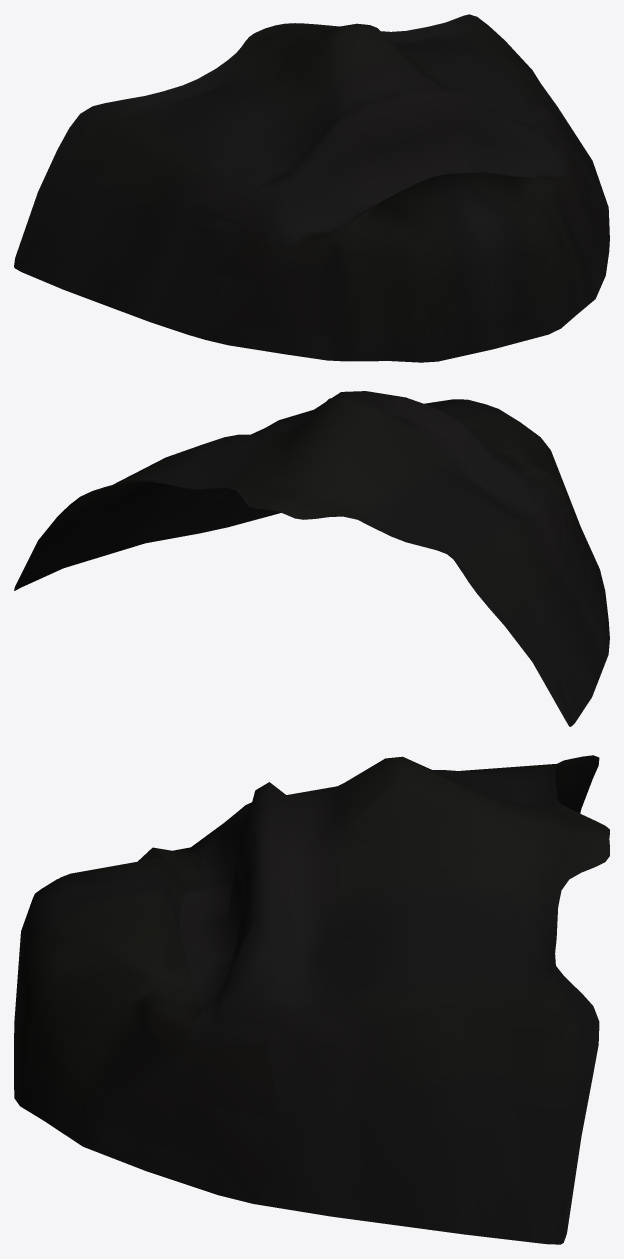
Rendered from WorldItem_AZ_SamuraiMask.fbx.
3 renders of one model, top to bottom at view 1: azimuth 30°, elevation 25°; view 2: azimuth 150°, elevation 25°; view 3: azimuth 270°, elevation 25°, orthographic. The views are drawn at different scales.
Visible parts, largest first — view 1: SamuraiMask; view 2: SamuraiMask; view 3: SamuraiMask.
Boxes of the visible parts, x1,y1,x2,y2 form: SamuraiMask: (14,14,609,362); SamuraiMask: (14,391,609,726); SamuraiMask: (14,755,609,1244).
Size of the model in its own units: 0.1379 by 0.0528 by 0.0937.
